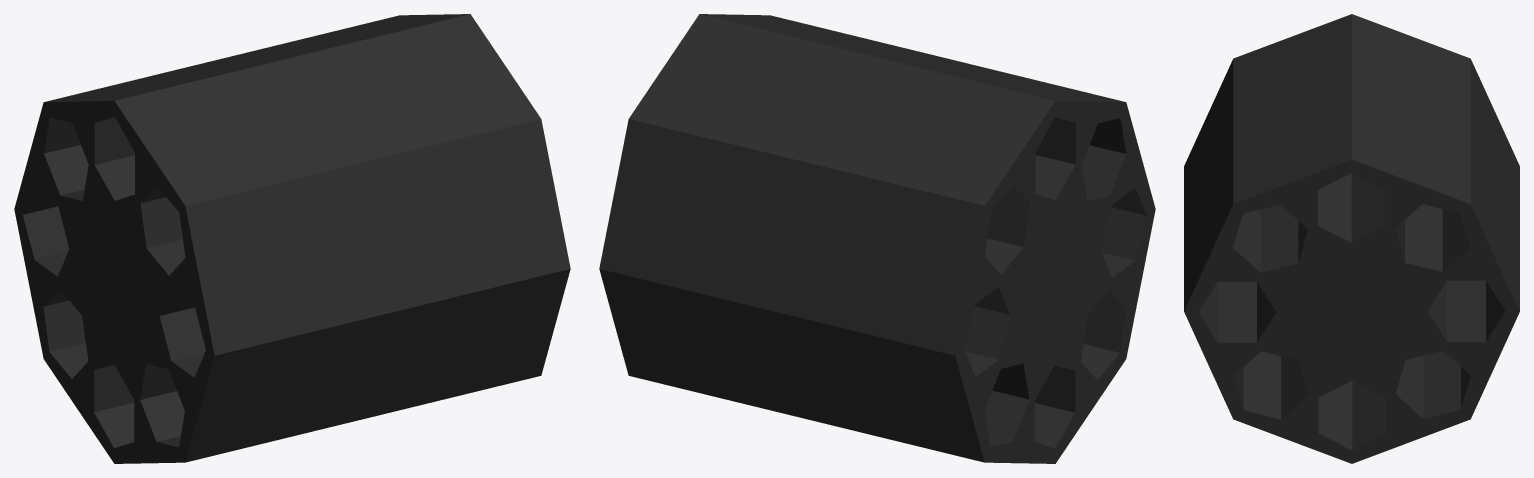
File: Pistol5_05_2.fbx
3 views of the same model, side by side, from view 1: azimuth 30°, elevation 25°; view 2: azimuth 150°, elevation 25°; view 3: azimuth 270°, elevation 25° (orthographic). The views are drawn at different scales.
Parts seen in each view (by area): view 1: Pistol5_05_2; view 2: Pistol5_05_2; view 3: Pistol5_05_2.
Boxes of the visible parts, x1,y1,x2,y2 form: Pistol5_05_2: [14, 14, 570, 463]; Pistol5_05_2: [599, 14, 1155, 463]; Pistol5_05_2: [1184, 14, 1519, 463].
Bounding box in the file's own units: 0.0511 × 0.0498 × 0.0498.
